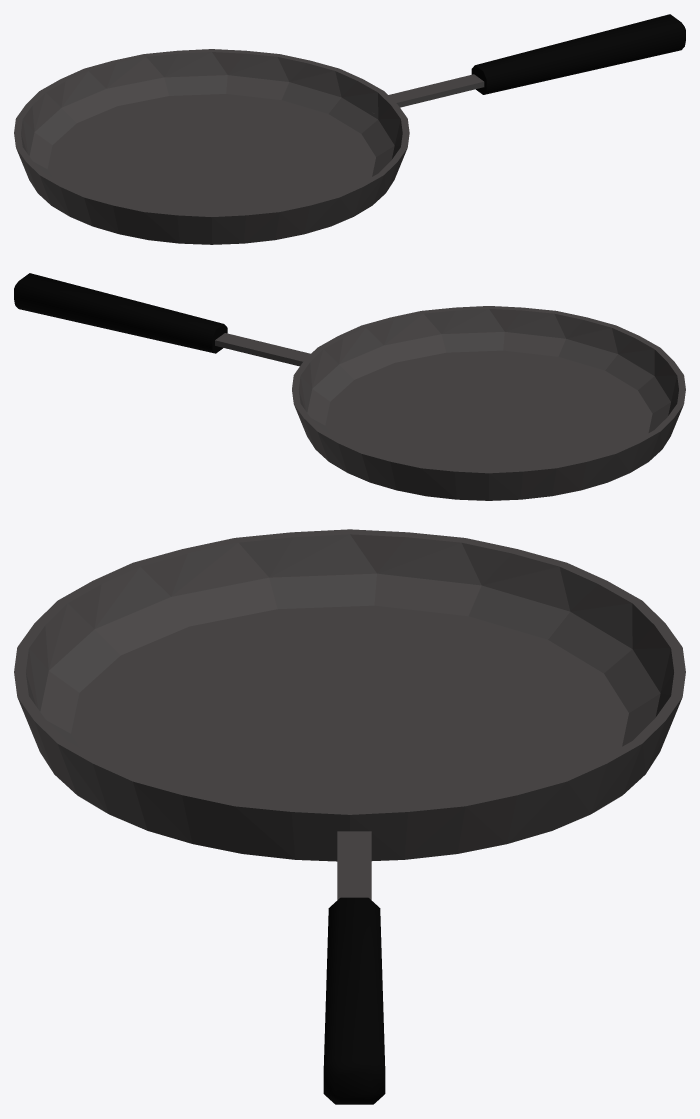
Rendered from Kitchen_FryingPan.FBX.
The picture shows the model from 3 angles, top to bottom: view 1: azimuth 30°, elevation 25°; view 2: azimuth 150°, elevation 25°; view 3: azimuth 270°, elevation 25°; orthographic projection. The views are drawn at different scales.
Visible parts, largest first — view 1: Kitchen_Frying_pan; view 2: Kitchen_Frying_pan; view 3: Kitchen_Frying_pan.
Boxes of the visible parts, left/top/right/bottom form: Kitchen_Frying_pan: left=14, top=14, right=685, bottom=244; Kitchen_Frying_pan: left=14, top=273, right=685, bottom=500; Kitchen_Frying_pan: left=14, top=529, right=685, bottom=1104.
Size of the model in its own units: 0.5421 by 0.0273 by 0.2893.
